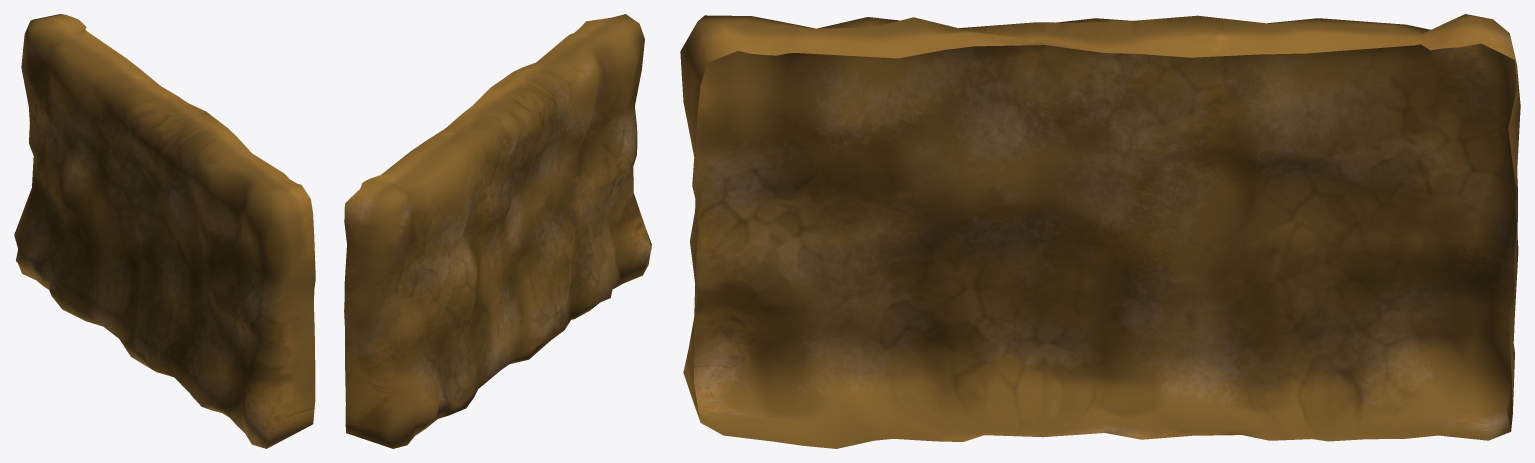
File: Wall 2x1 - Copy.fbx
3 renders of one model, left to right at view 1: azimuth 30°, elevation 25°; view 2: azimuth 150°, elevation 25°; view 3: azimuth 270°, elevation 25°, orthographic. The views are drawn at different scales.
Visible parts, largest first — view 1: Group63211; view 2: Group63211; view 3: Group63211.
Boxes of the visible parts, x1,y1,x2,y2 form: Group63211: (14,14,315,448); Group63211: (344,14,651,448); Group63211: (680,14,1520,448).
Bounding box in the file's own units: 95.05 × 336 × 629.
